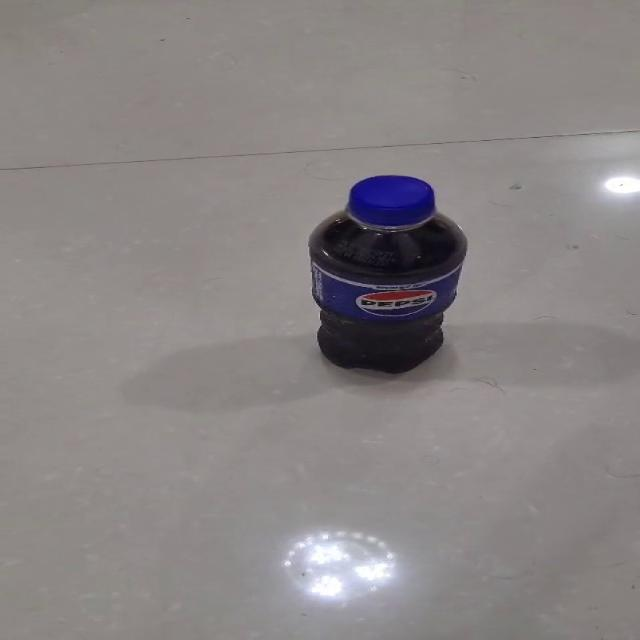plastic: (307, 173, 467, 374)
